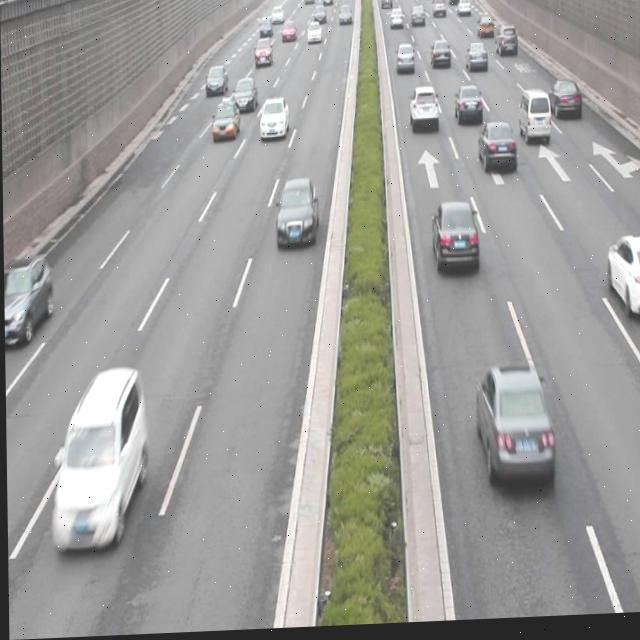car: (48, 369, 145, 554), (472, 365, 551, 492), (3, 254, 54, 350), (429, 204, 477, 280), (273, 180, 318, 251), (605, 239, 640, 326), (475, 122, 515, 179), (257, 96, 289, 144), (407, 88, 439, 135), (549, 82, 581, 126), (453, 87, 482, 131), (210, 100, 239, 141), (233, 78, 257, 117), (205, 63, 228, 98), (465, 44, 487, 76), (430, 41, 450, 74), (394, 45, 414, 77)
truck: (517, 93, 549, 148)
